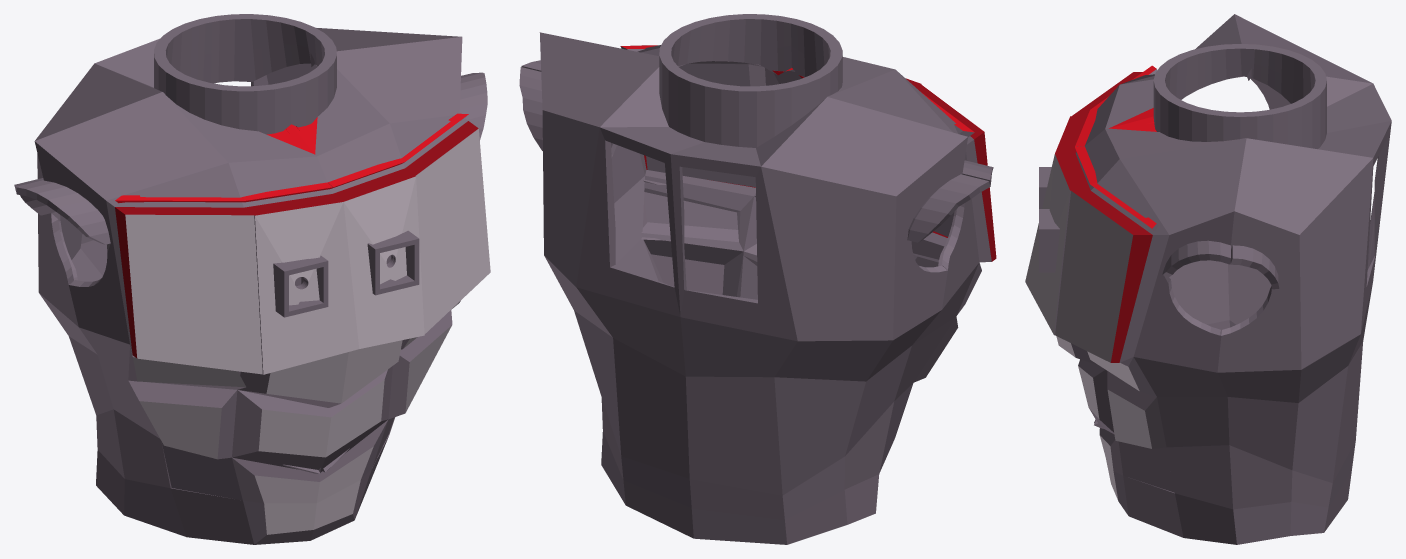
File: CyberArmor.fbx
3 views of the same model, side by side, from view 1: azimuth 30°, elevation 25°; view 2: azimuth 150°, elevation 25°; view 3: azimuth 270°, elevation 25° (orthographic). The views are drawn at different scales.
Visible parts, largest first — view 1: Cylinder; view 2: Cylinder; view 3: Cylinder.
Boxes of the visible parts, x1,y1,x2,y2 form: Cylinder: [14, 14, 490, 544]; Cylinder: [519, 14, 996, 544]; Cylinder: [1025, 14, 1391, 544].
Bounding box in the file's own units: 383 × 347 × 275.
